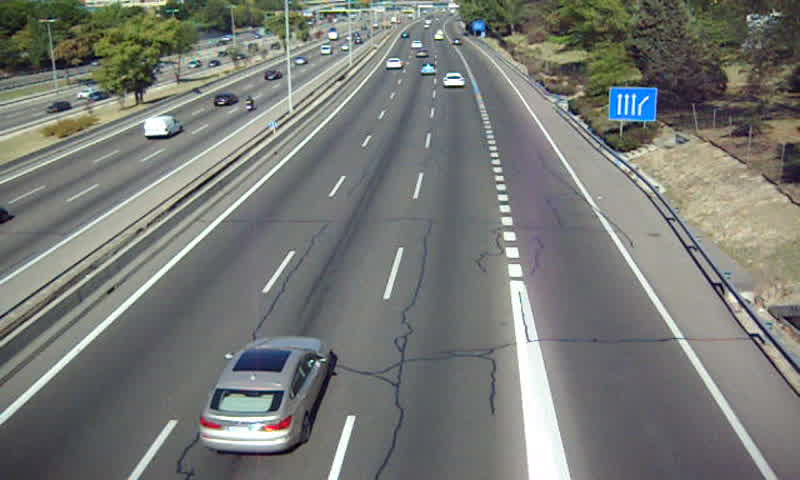car: (195, 337, 332, 457), (442, 72, 466, 89), (419, 61, 436, 76), (385, 57, 404, 70)
